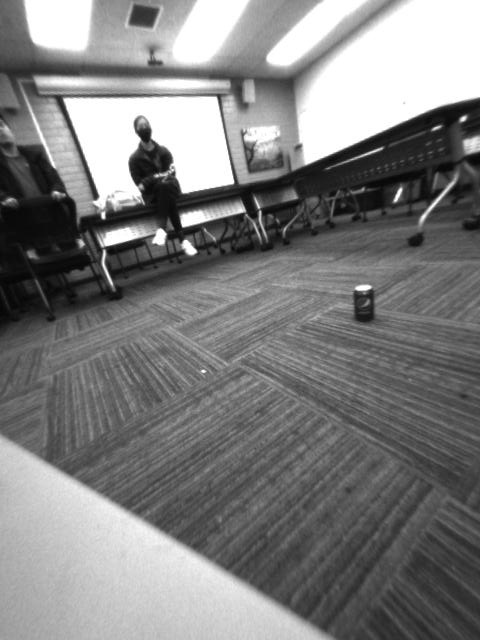can: (350, 281, 378, 324)
